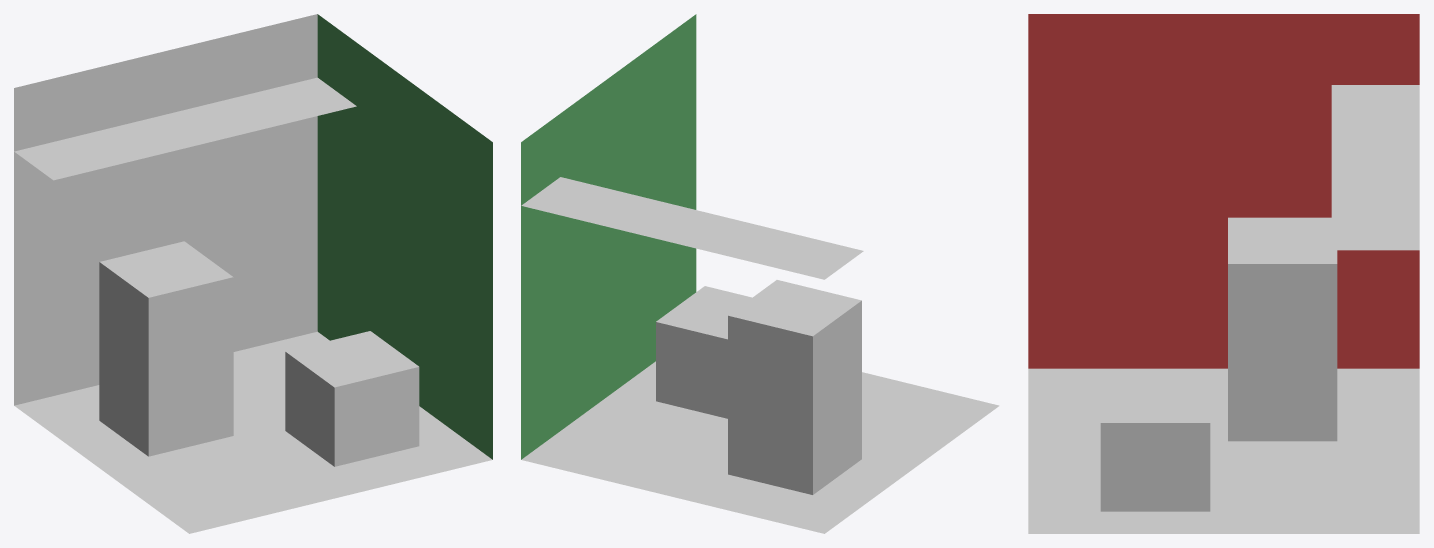
The model's file is indirect_cove.glb.
3 views of the same model, side by side, from view 1: azimuth 30°, elevation 25°; view 2: azimuth 150°, elevation 25°; view 3: azimuth 270°, elevation 25° (orthographic). The views are drawn at different scales.
Visible parts, largest first — view 1: BackWall, RightWall, Floor, TallBlock, ShortBlock, CoveLip; view 2: RightWall, Floor, TallBlock, CoveLip, ShortBlock; view 3: LeftWall, Floor, TallBlock, ShortBlock, CoveLip.
Part boxes in pixels (bbox=[...]): BackWall: bbox=[14, 14, 317, 405]; RightWall: bbox=[317, 14, 492, 459]; Floor: bbox=[14, 331, 492, 533]; TallBlock: bbox=[99, 241, 233, 456]; ShortBlock: bbox=[285, 331, 419, 466]; CoveLip: bbox=[14, 77, 356, 180]; RightWall: bbox=[521, 14, 696, 459]; Floor: bbox=[521, 361, 999, 533]; TallBlock: bbox=[728, 280, 861, 494]; CoveLip: bbox=[521, 177, 863, 279]; ShortBlock: bbox=[656, 286, 751, 418]; LeftWall: bbox=[1028, 14, 1419, 368]; Floor: bbox=[1028, 368, 1419, 533]; TallBlock: bbox=[1228, 217, 1337, 441]; ShortBlock: bbox=[1100, 376, 1210, 511]; CoveLip: bbox=[1331, 85, 1419, 250].
Bounding box in the file's own units: 2 × 2 × 2.
